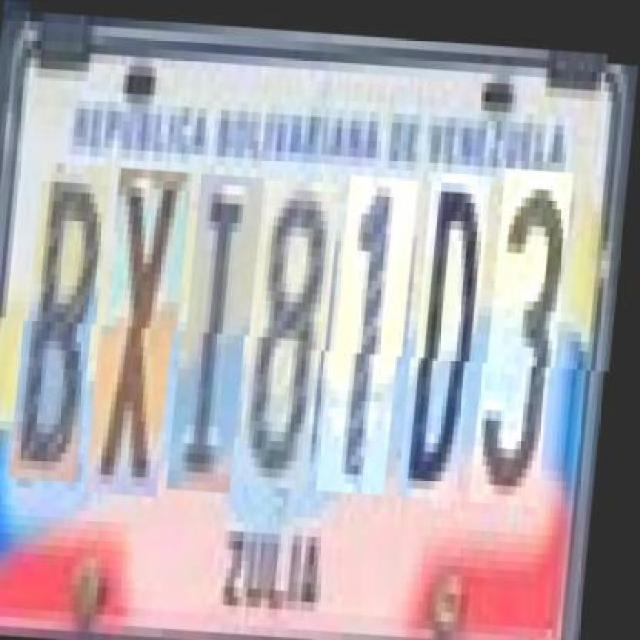1: (331, 170, 422, 488)
3: (482, 160, 576, 498)
8: (248, 173, 344, 484)
b: (23, 162, 114, 480)
d: (411, 165, 494, 493)
i: (180, 170, 268, 490)
x: (99, 166, 196, 494)
